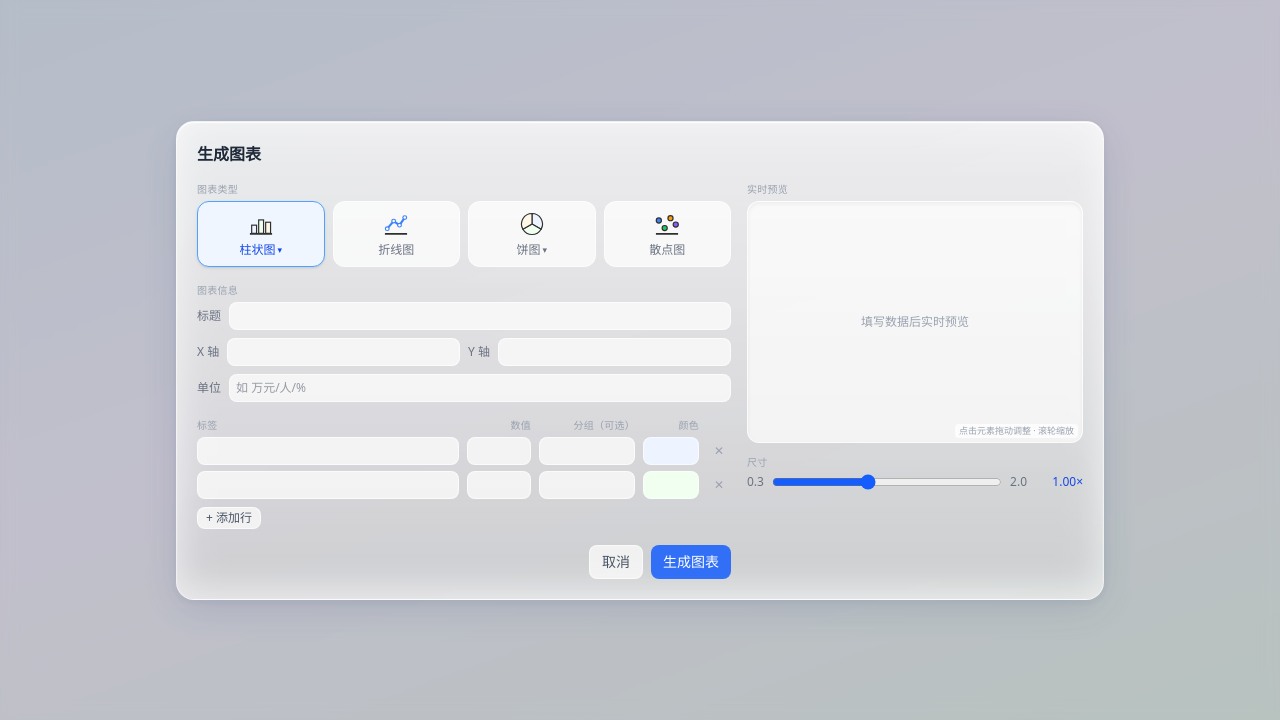
ChartDialog › 校验错误：空标签提示
The width and height of the screenshot is (1280, 720).
Click the button "生成图表" at (691, 562), box [651,544,731,578]
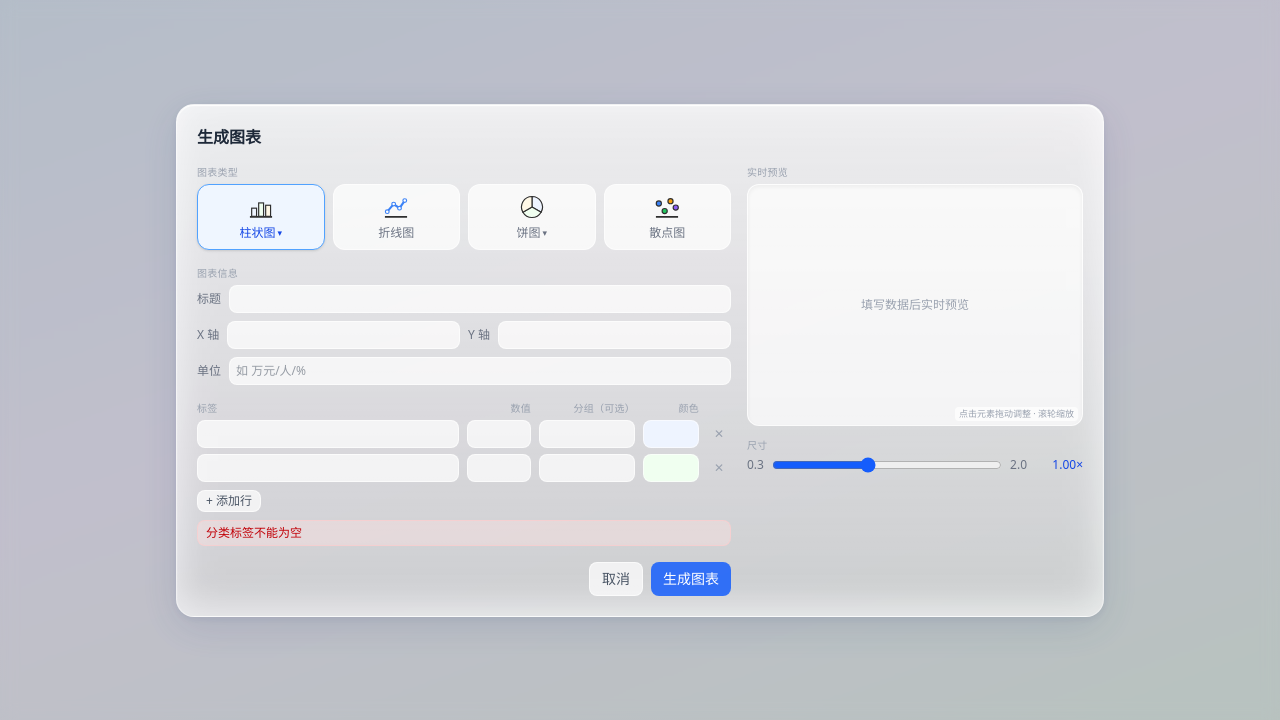
Now the text "分类标签不能为空" is shown, box [197,520,731,546]
